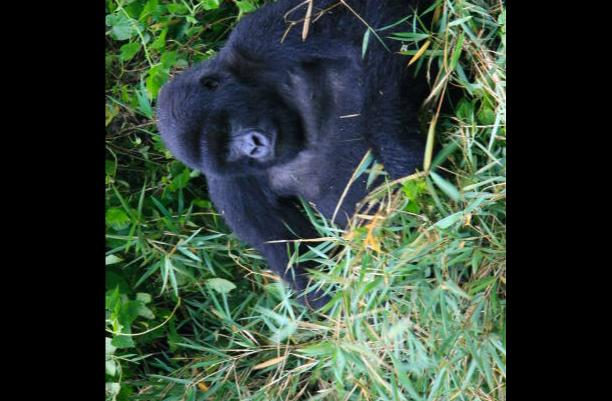goriile_montagne: (137, 0, 454, 299)
